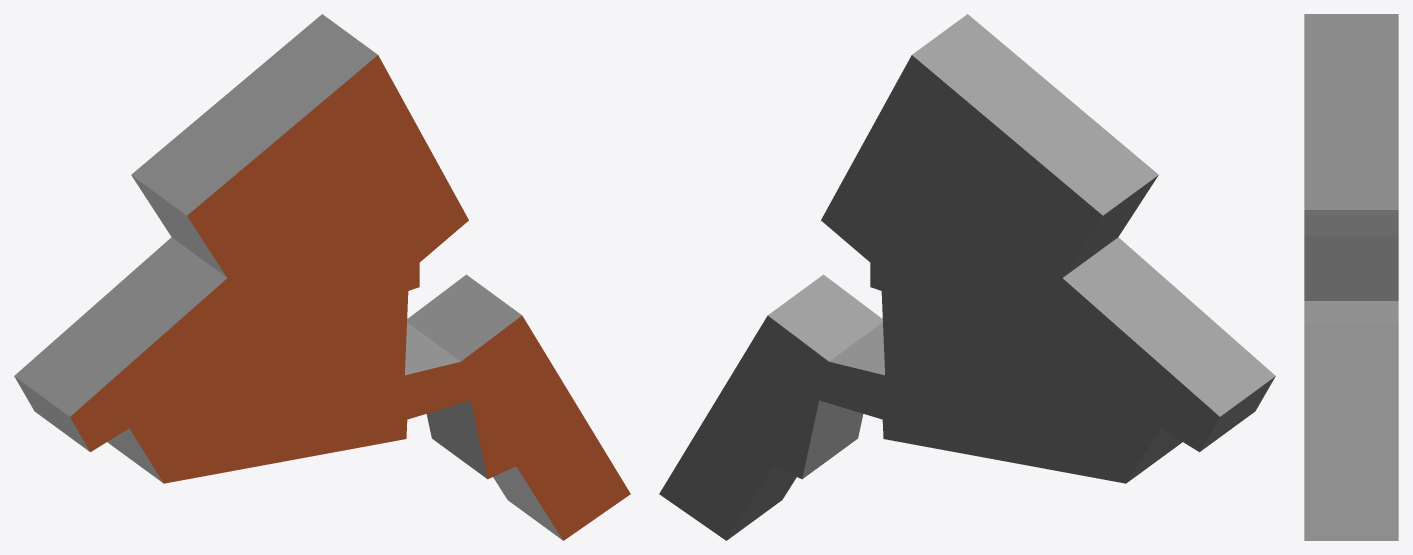
File: construction_2597_assumed_A_Casa_h6m.obj
3 views of the same model, side by side, from view 1: azimuth 30°, elevation 25°; view 2: azimuth 150°, elevation 25°; view 3: azimuth 270°, elevation 25° (orthographic). The views are drawn at different scales.
Parts seen in each view (by area): view 1: construction_2597_assumed_A_Casa; view 2: construction_2597_assumed_A_Casa; view 3: construction_2597_assumed_A_Casa.
Part boxes in pixels (box(x1,y1,x2,y2)): construction_2597_assumed_A_Casa: box(14, 14, 630, 540); construction_2597_assumed_A_Casa: box(659, 14, 1275, 540); construction_2597_assumed_A_Casa: box(1304, 14, 1398, 540).
Bounding box in the file's own units: 34.76 × 31.46 × 6.
